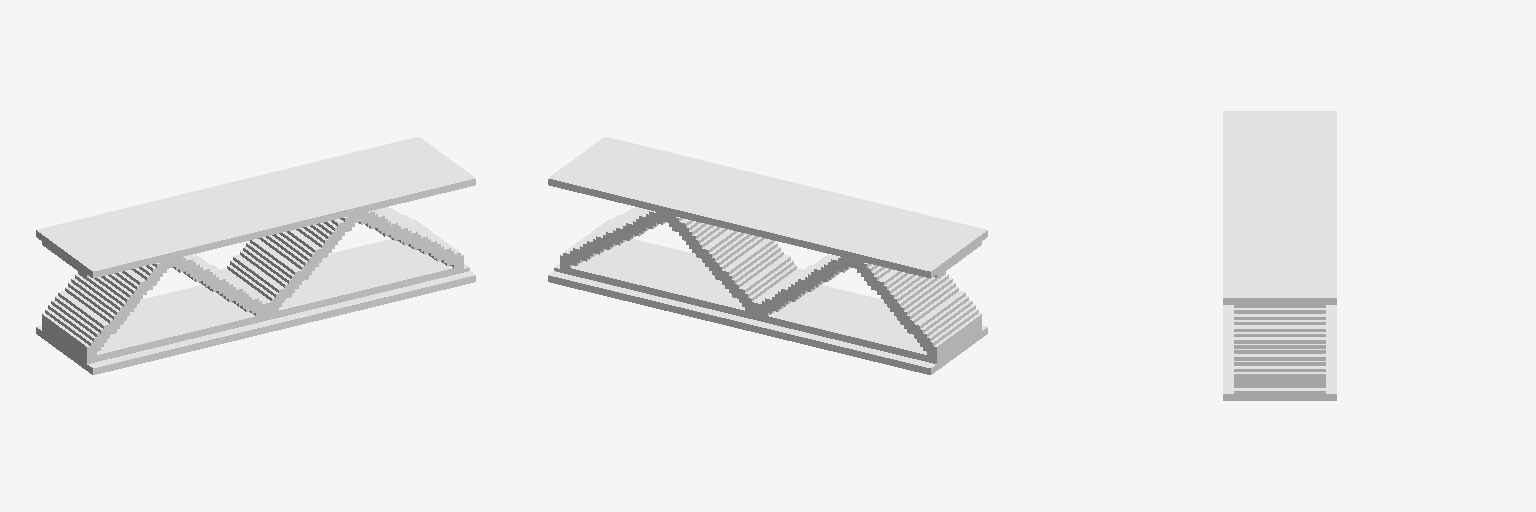
File: poutre4x1.obj
3 views of the same model, side by side, from view 1: azimuth 30°, elevation 25°; view 2: azimuth 150°, elevation 25°; view 3: azimuth 270°, elevation 25° (orthographic).
Bounding box in the file's own units: 116 × 30 × 30.